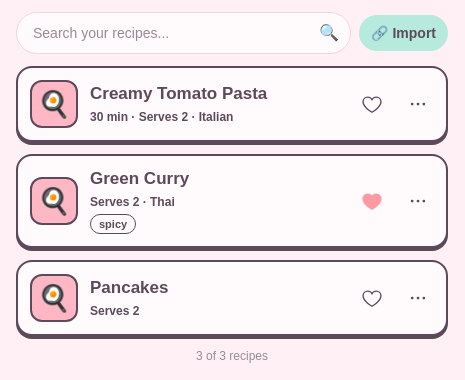
Recipes tab list (issue #801) › search › filters the list, best match first, and says so when nothing matches
Type "curry" into the field with placeholder "Search your recipes..." at (184,33), box [16,12,351,54]
Wait 350 ms
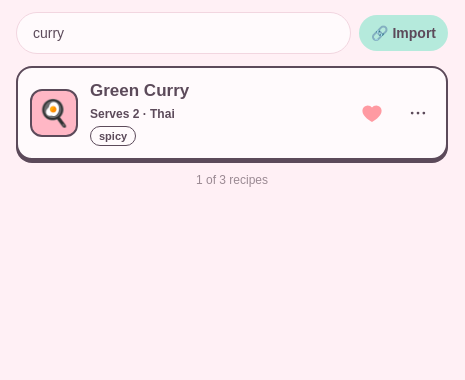
expect the element with test id "recipe-card-saved" shows "Green Curry": met, box [18,68,350,158]
expect the number of elements with test id "recipe-card-saved" is 1: met, box [16,66,448,160]
Replace the text in the field with placeholder "Search your recipes..." with "zzzz" at (184,33), box [16,12,351,54]
Wait 350 ms
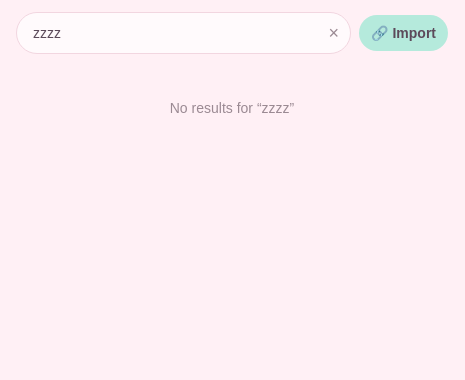
expect the element with test id "recipe-card-saved" is gone: met
expect the text "No results for “zzzz”" is shown: met, box [170,100,294,116]
